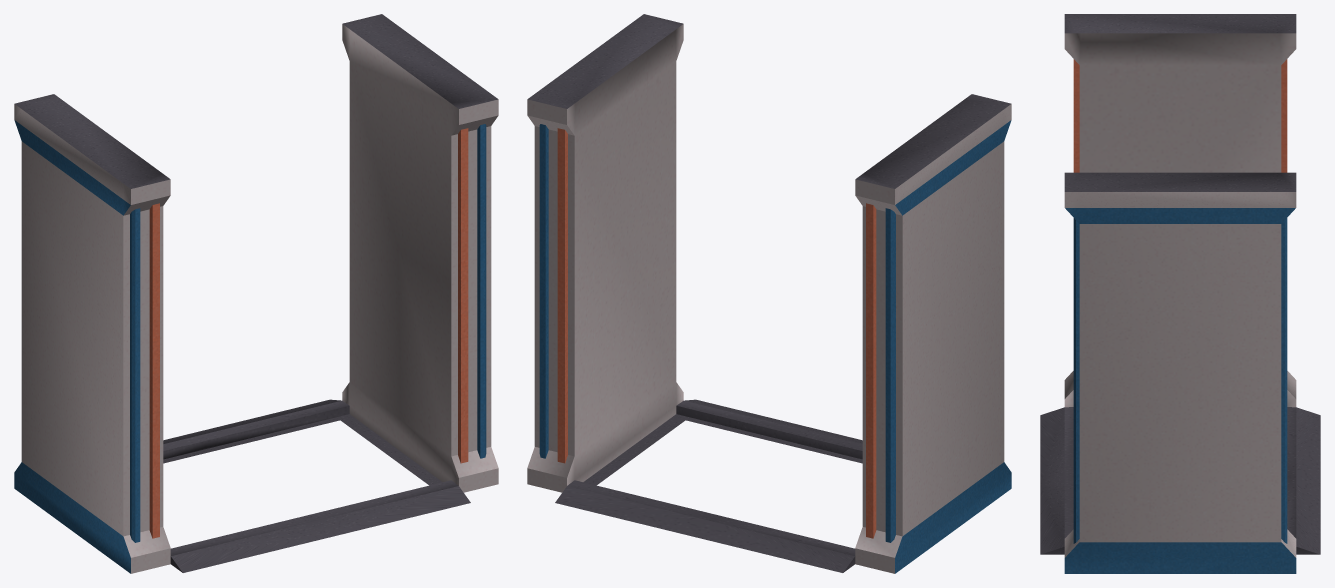
The model's file is DropDoorFrame.fbx.
3 views of the same model, side by side, from view 1: azimuth 30°, elevation 25°; view 2: azimuth 150°, elevation 25°; view 3: azimuth 270°, elevation 25° (orthographic).
Parts seen in each view (by area): view 1: DropDoorFrame; view 2: DropDoorFrame; view 3: DropDoorFrame.
Boxes of the visible parts, left/top/right/bottom form: DropDoorFrame: left=14, top=14, right=498, bottom=573; DropDoorFrame: left=527, top=14, right=1011, bottom=573; DropDoorFrame: left=1040, top=14, right=1320, bottom=573.
Bounding box in the file's own units: 1000 × 1000 × 665.
